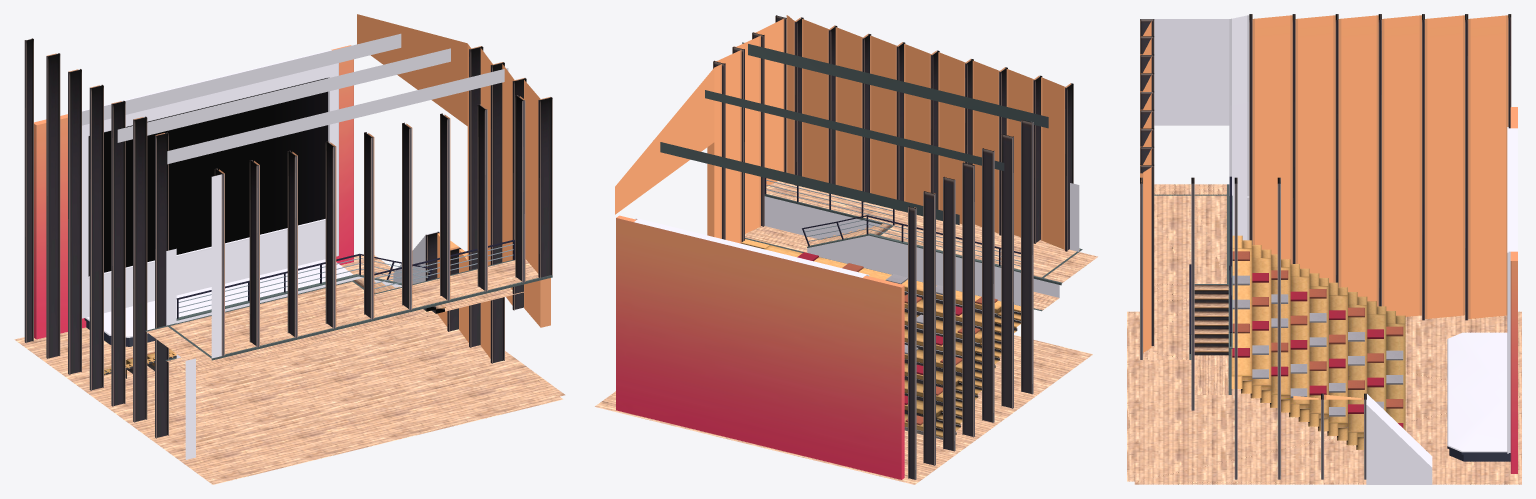
The model's file is TeachingCommunityInteriorLectureTheatre02.glb.
3 views of the same model, side by side, from view 1: azimuth 30°, elevation 25°; view 2: azimuth 150°, elevation 25°; view 3: azimuth 270°, elevation 25° (orthographic). The views are drawn at different scales.
Visible parts, largest first — view 1: TCV_LectureTheatreFloor.001, TCV_LectureTheatreStage.001, TCV_LectureTheatreWallLeft.001, TCV_LectureTheatreWallRight.001, TCV_LectureTheatreWallBack.001, TCV_LectureTheatreStairs1.001, TCV_LectureTheatreRoof01.001, TCV_LectureTheatreStairRailings.001; view 2: TCV_LectureTheatreStage.001, TCV_LectureTheatreWallBack.001, TCV_LectureTheatreWallLeft.001, TCV_LectureTheatreWallRight.001, TCV_LectureTheatreStairs1.001, TCV_LectureTheatreRoof01.001, TCV_LectureTheatreFloor.001, TCV_LectureTheatreSeatsBase.001, TCV_LectureTheatreStairRailings.001; view 3: TCV_LectureTheatreWallLeft.001, TCV_LectureTheatreFloor.001, TCV_LectureTheatreSeatsBase.001, TCV_LectureTheatreStairs1.001, TCV_LectureTheatreStage.001, TCV_LectureTheatreWallRight.001, TCV_LectureTheatreWallBack.001, TCV_LectureTheatreStairRailings.001.
Part boxes in pixels (x1,y1,x2,y2): TCV_LectureTheatreFloor.001: [14, 254, 565, 484]; TCV_LectureTheatreStage.001: [34, 45, 353, 346]; TCV_LectureTheatreWallLeft.001: [24, 38, 221, 459]; TCV_LectureTheatreWallRight.001: [357, 14, 552, 363]; TCV_LectureTheatreWallBack.001: [214, 95, 525, 355]; TCV_LectureTheatreStairs1.001: [145, 259, 552, 374]; TCV_LectureTheatreRoof01.001: [82, 33, 508, 164]; TCV_LectureTheatreStairRailings.001: [176, 239, 515, 318]; TCV_LectureTheatreStage.001: [616, 215, 904, 479]; TCV_LectureTheatreWallBack.001: [786, 15, 1073, 251]; TCV_LectureTheatreWallLeft.001: [908, 119, 1079, 479]; TCV_LectureTheatreWallRight.001: [615, 15, 786, 243]; TCV_LectureTheatreStairs1.001: [745, 181, 1097, 311]; TCV_LectureTheatreRoof01.001: [660, 42, 1048, 224]; TCV_LectureTheatreFloor.001: [595, 335, 1092, 484]; TCV_LectureTheatreSeatsBase.001: [741, 239, 1020, 439]; TCV_LectureTheatreStairRailings.001: [764, 178, 1020, 266]; TCV_LectureTheatreWallLeft.001: [1140, 14, 1511, 320]; TCV_LectureTheatreFloor.001: [1127, 311, 1521, 484]; TCV_LectureTheatreSeatsBase.001: [1231, 235, 1405, 449]; TCV_LectureTheatreStairs1.001: [1143, 184, 1232, 394]; TCV_LectureTheatreStage.001: [1447, 107, 1517, 473]; TCV_LectureTheatreWallRight.001: [1140, 177, 1432, 484]; TCV_LectureTheatreWallBack.001: [1140, 19, 1154, 352]; TCV_LectureTheatreStairRailings.001: [1189, 176, 1231, 353].
Size of what is drawn, in the model's own units: 22.52 by 17.4 by 20.74.
6 materials, 6 textured.
